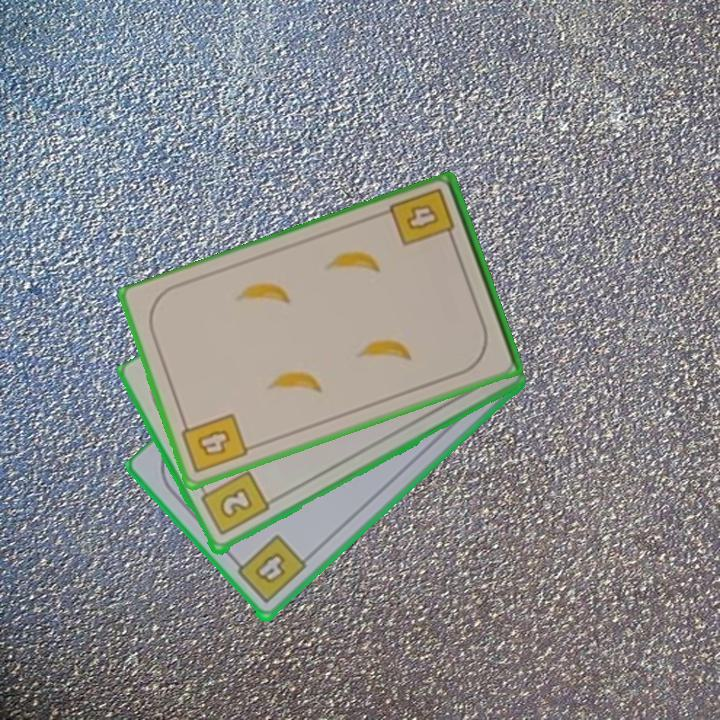2b: (195, 468, 272, 539)
4b: (229, 532, 309, 607), (177, 410, 251, 477), (387, 185, 459, 250)
